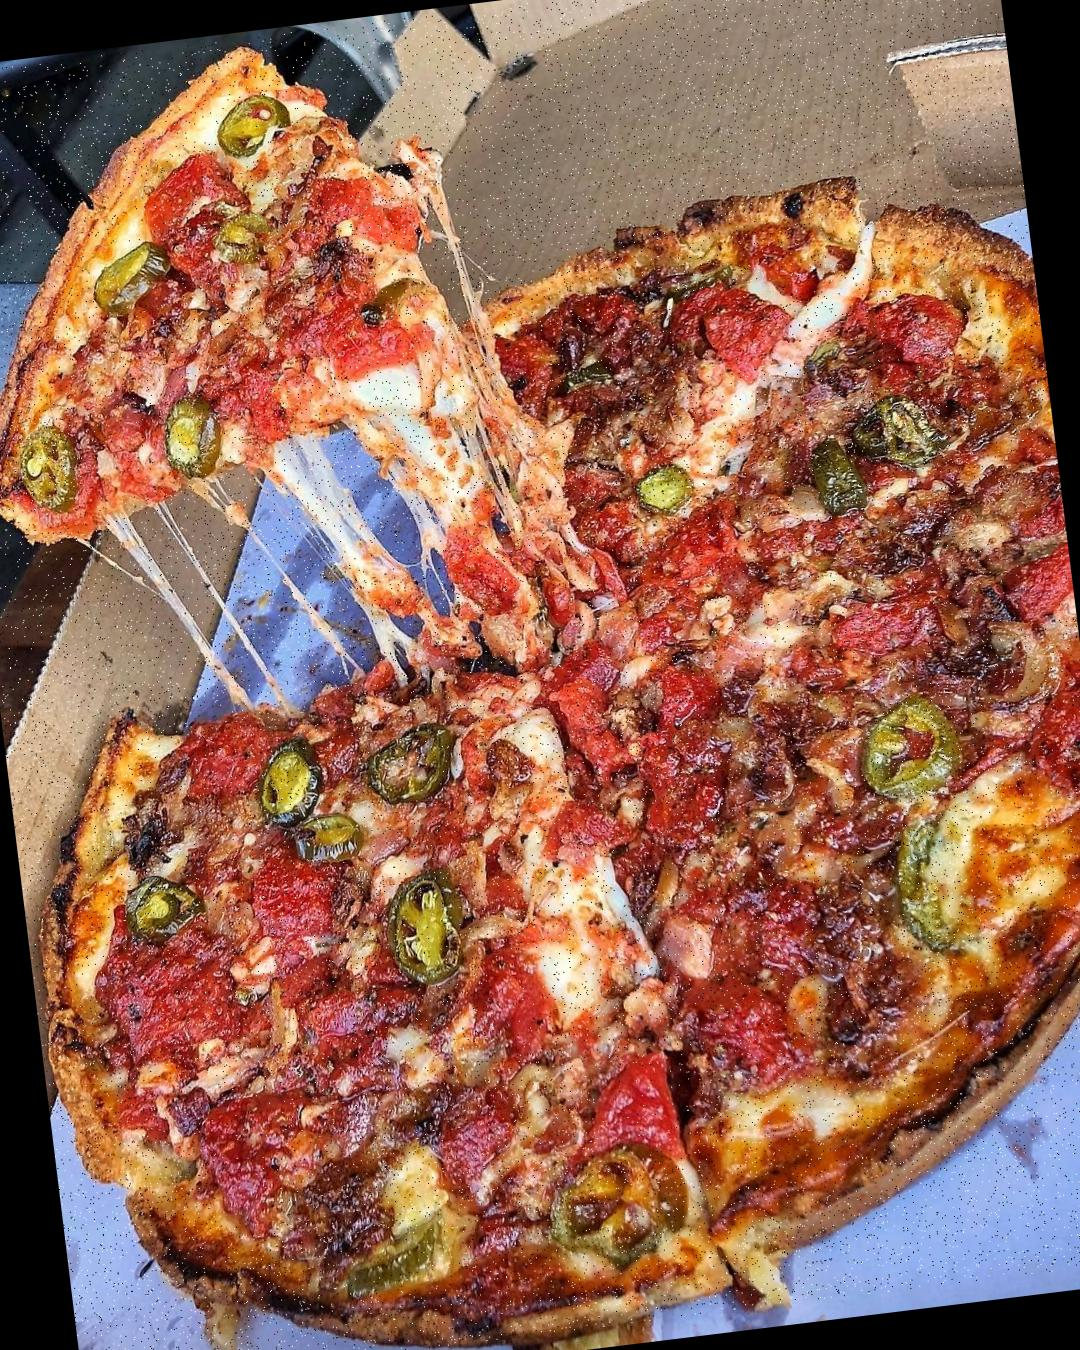Peppers: (551, 1137, 682, 1262), (893, 809, 972, 959), (864, 684, 961, 807), (333, 1218, 469, 1299), (367, 717, 469, 806), (210, 87, 313, 168), (398, 877, 469, 987), (9, 413, 87, 514), (244, 738, 332, 824), (159, 391, 234, 484), (865, 390, 946, 473), (123, 872, 207, 950), (90, 237, 176, 311), (812, 438, 877, 529), (205, 203, 280, 272), (293, 799, 369, 863), (635, 456, 712, 514), (847, 401, 898, 460), (804, 342, 854, 378)
Pizza: (0, 0, 1080, 1350)
Tomatoes: (118, 949, 251, 1074), (278, 954, 398, 1073), (625, 725, 730, 860), (667, 280, 792, 384), (642, 505, 764, 609), (204, 1093, 298, 1227), (844, 282, 974, 376), (683, 981, 795, 1090), (591, 1057, 691, 1164), (558, 672, 638, 791), (324, 162, 422, 256), (829, 588, 950, 659), (636, 650, 742, 731), (188, 710, 274, 804), (574, 457, 647, 569), (256, 856, 341, 948), (441, 1103, 530, 1186), (94, 404, 170, 500), (326, 315, 438, 380), (485, 948, 553, 1054), (748, 876, 821, 975), (140, 153, 219, 239), (998, 534, 1077, 622), (446, 530, 527, 613), (486, 330, 561, 408), (1029, 690, 1080, 791), (292, 282, 364, 354), (241, 361, 298, 435), (559, 291, 629, 335), (42, 492, 104, 534)
